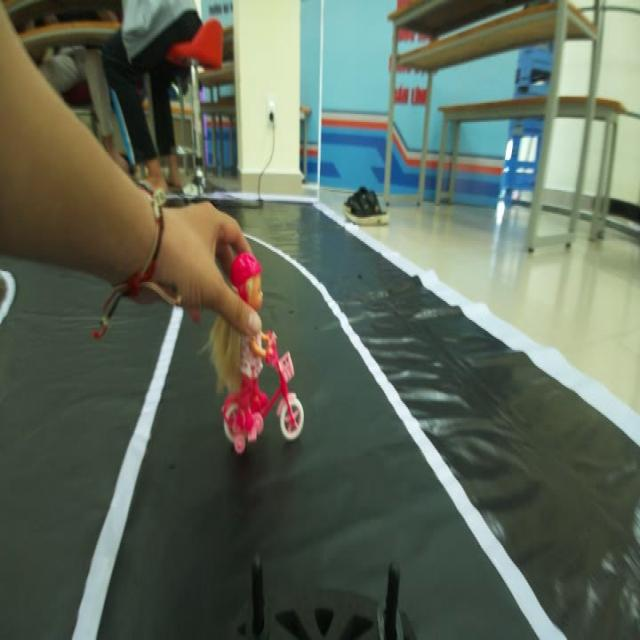pedestrian: (217, 246, 312, 445)
